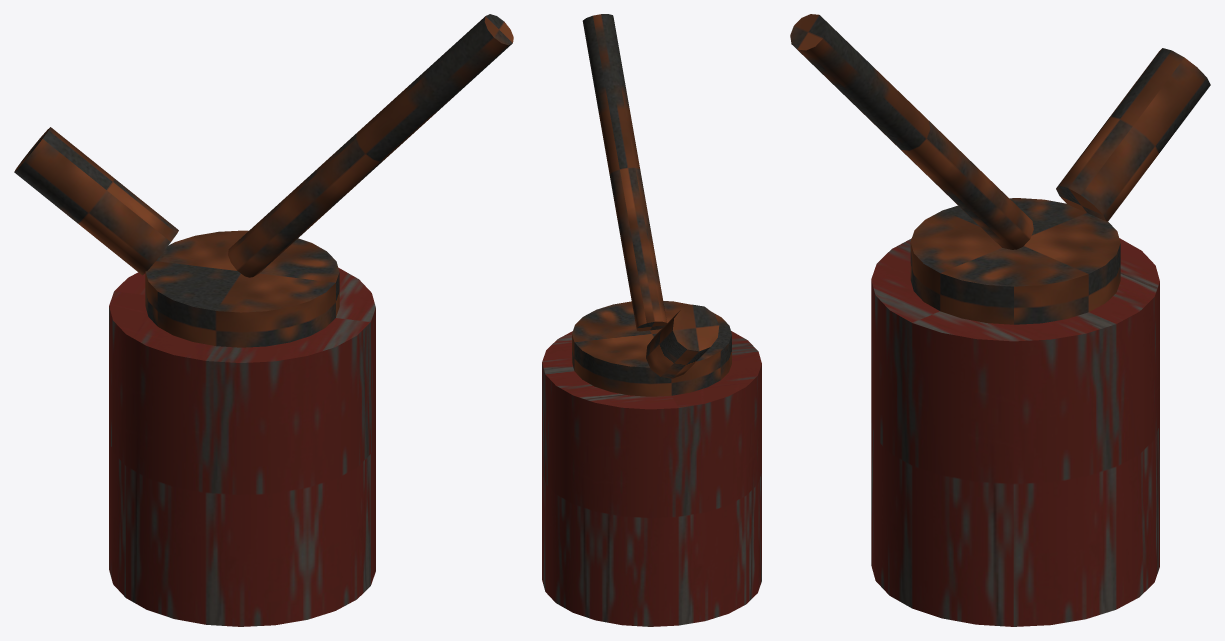
File: SM_MachineOilCan_13f5829daa.fbx
The picture shows the model from 3 angles, left to right: view 1: azimuth 30°, elevation 25°; view 2: azimuth 150°, elevation 25°; view 3: azimuth 270°, elevation 25°; orthographic projection. The views are drawn at different scales.
Parts seen in each view (by area): view 1: SM_MachineOilCan_13f5829daa; view 2: SM_MachineOilCan_13f5829daa; view 3: SM_MachineOilCan_13f5829daa.
Boxes of the visible parts, left/top/right/bottom form: SM_MachineOilCan_13f5829daa: left=14, top=14, right=513, bottom=626; SM_MachineOilCan_13f5829daa: left=542, top=14, right=761, bottom=626; SM_MachineOilCan_13f5829daa: left=790, top=14, right=1210, bottom=626.
Size of what is drawn, in the model's own units: 15.63 by 16.02 by 26.54.
2 materials, 2 textured.
